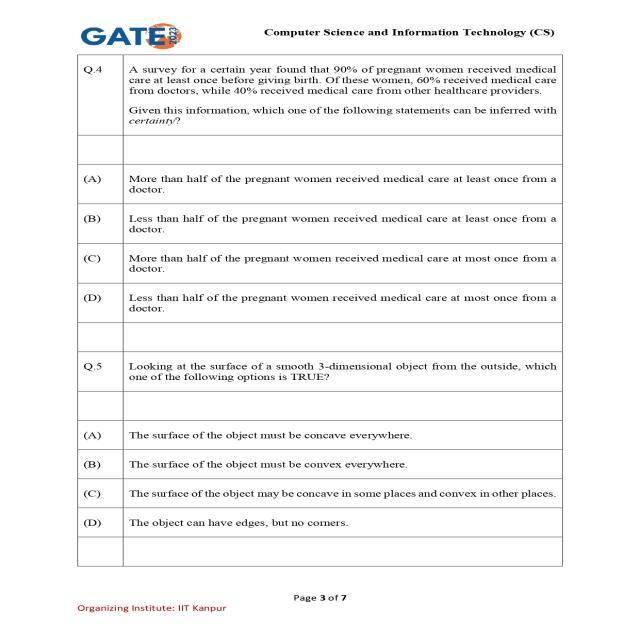Answer_Block: (76, 165, 560, 321), (76, 418, 560, 566)
Question_Answer_Block: (76, 56, 560, 321), (76, 353, 560, 566)
Question_Block: (76, 56, 560, 136), (76, 352, 560, 393)
Question_Paper_Area: (76, 56, 560, 566)
